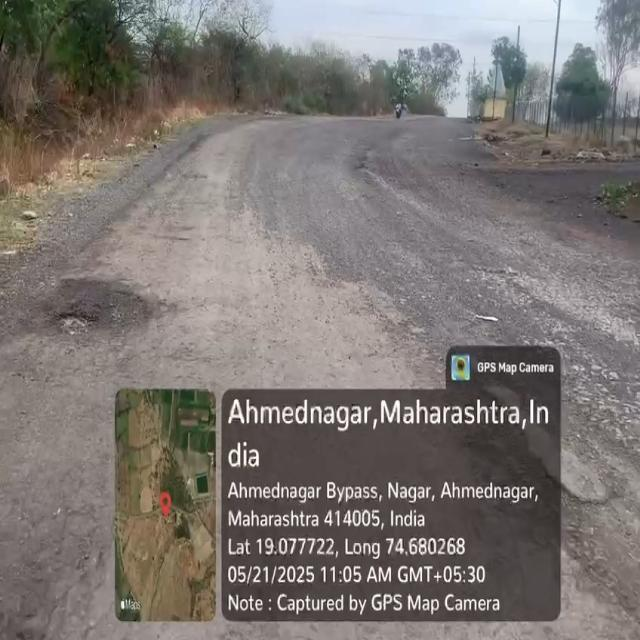damage surface: (568, 409, 635, 626)
pothole: (51, 275, 125, 349)
